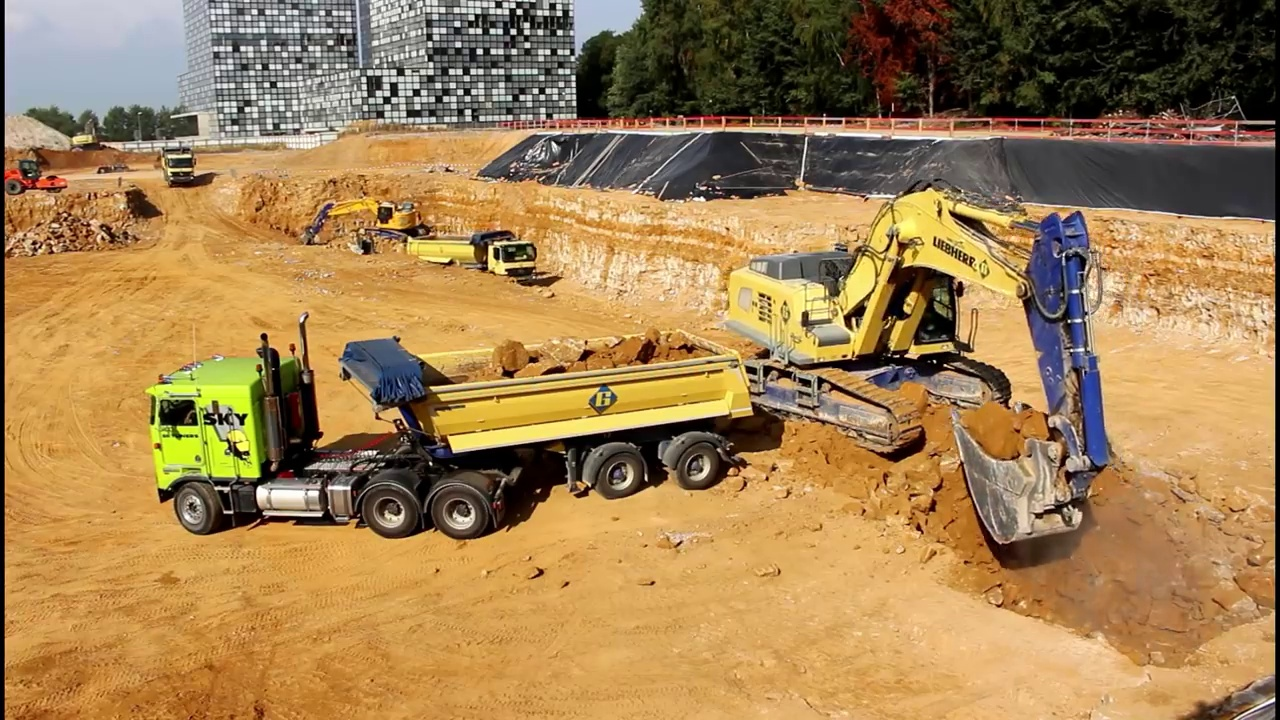compactor: (5, 154, 68, 195)
excavator: (685, 181, 1123, 554), (297, 188, 439, 272), (68, 113, 112, 158)
truck: (142, 310, 760, 545), (401, 223, 550, 310), (159, 143, 201, 192)
